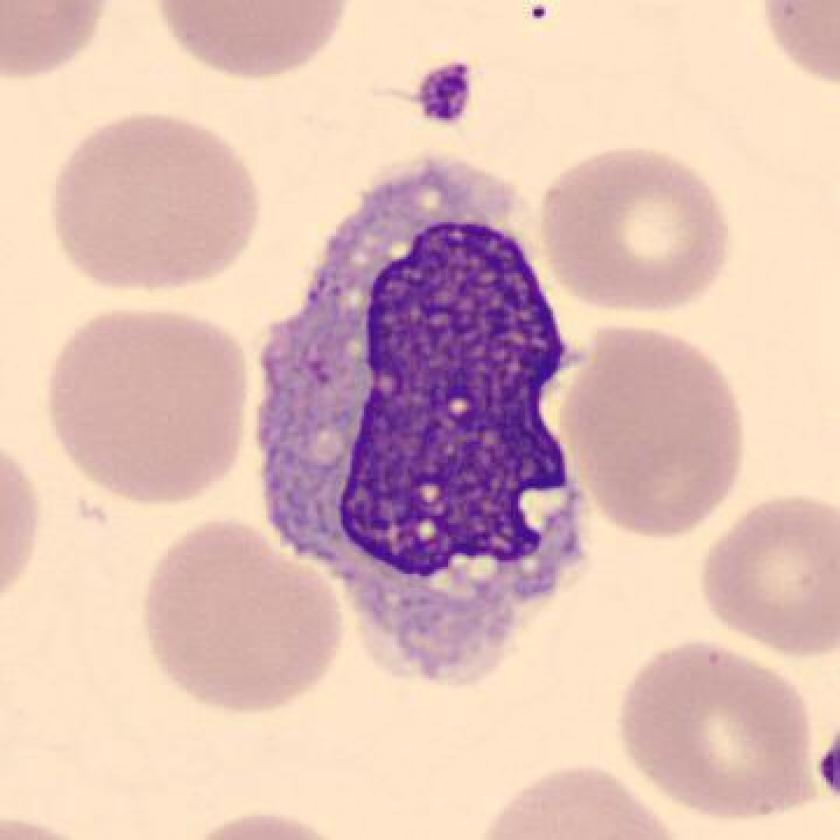monocyte: (241, 126, 622, 711)
